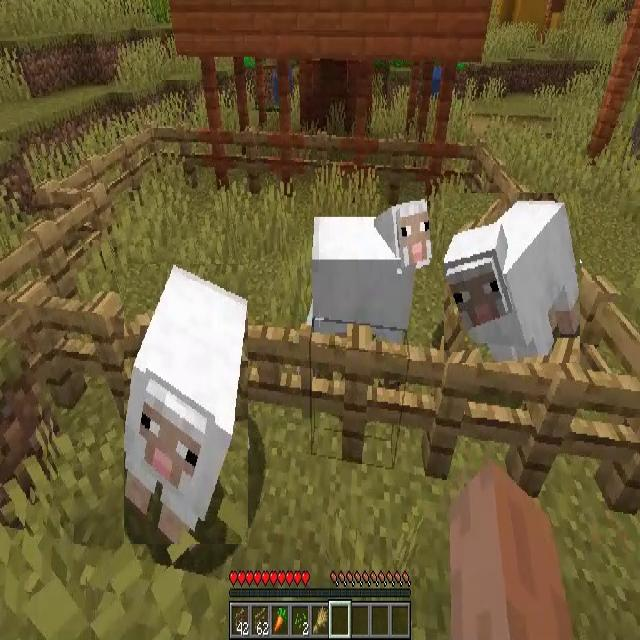sheep: (124, 264, 248, 544), (444, 193, 580, 363), (315, 198, 429, 352)
